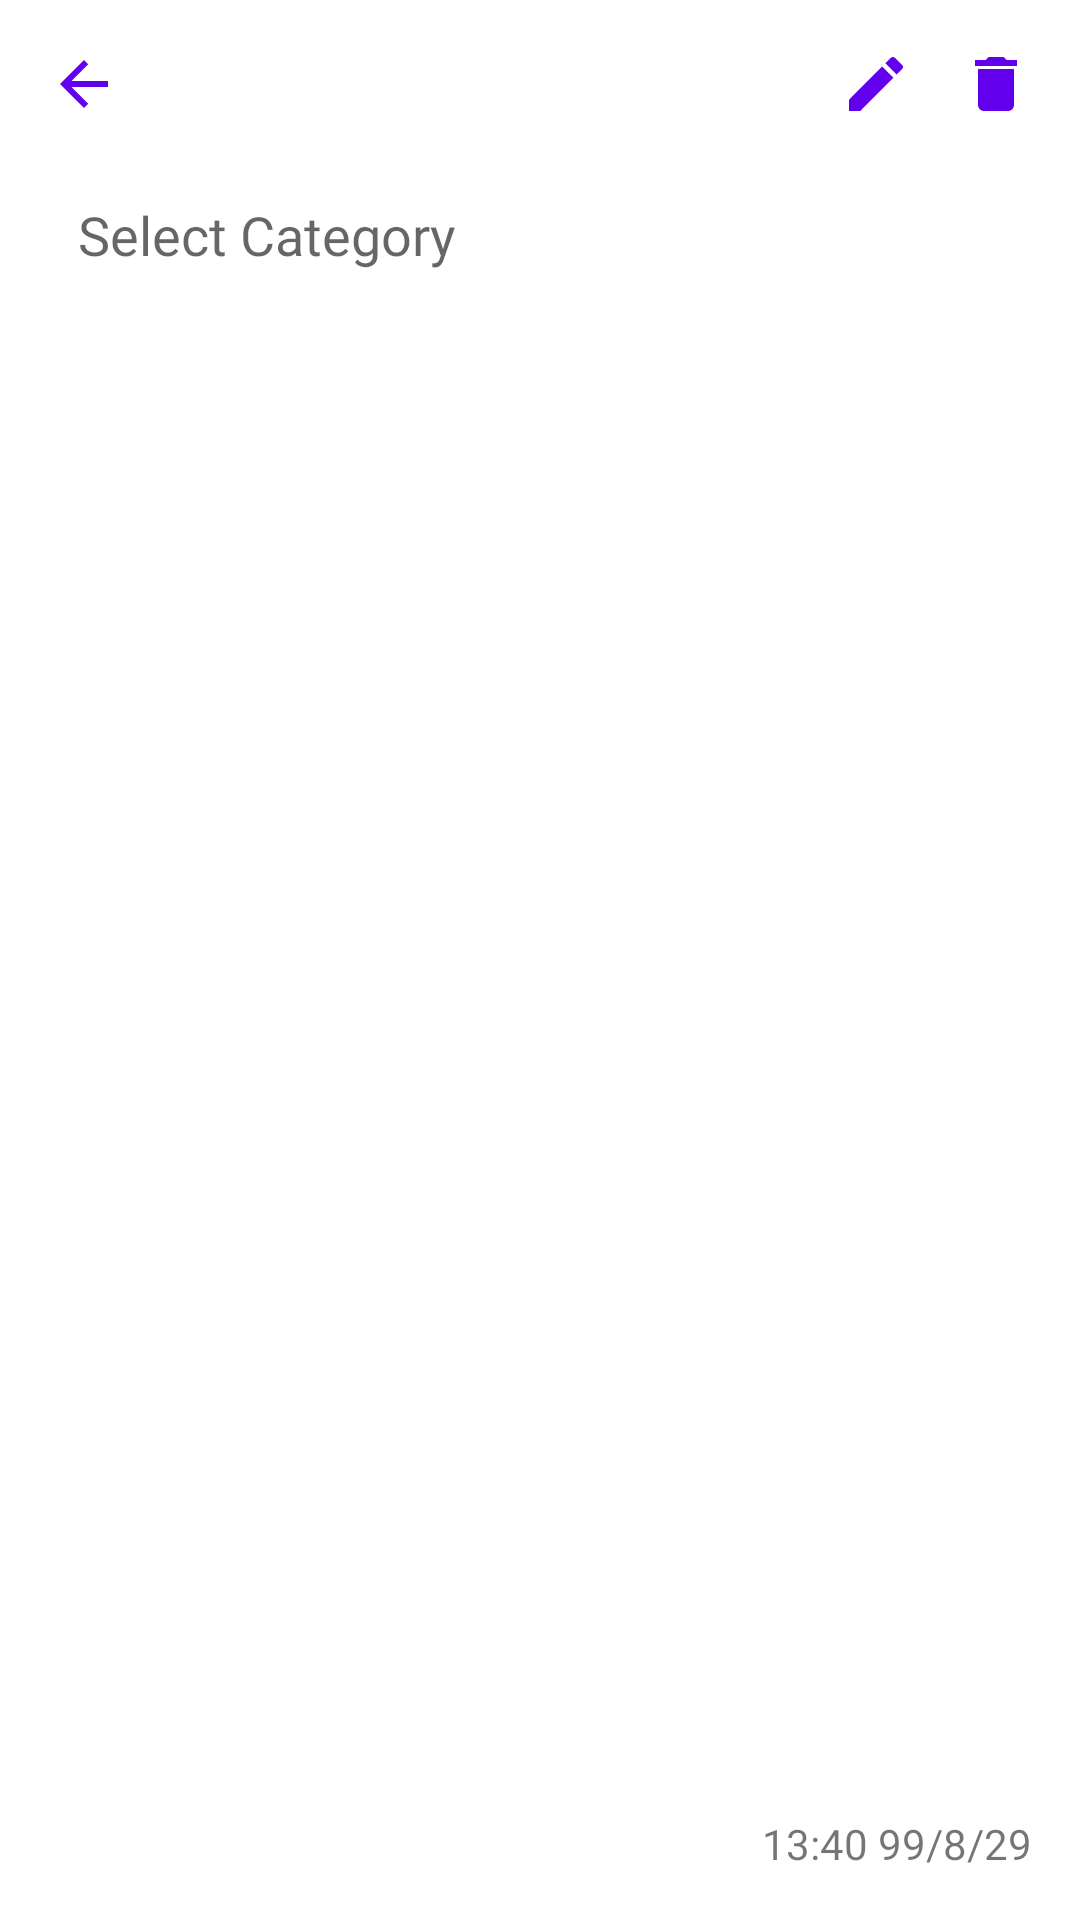

Icon bounding boxes for this 1080 × 1920 phone screenshot, format (left=x1, top=y1, right=x2, bottom=y2):
back: (left=60, top=60, right=108, bottom=108)
delete: (left=975, top=57, right=1017, bottom=111)
edit: (left=849, top=57, right=903, bottom=111)
